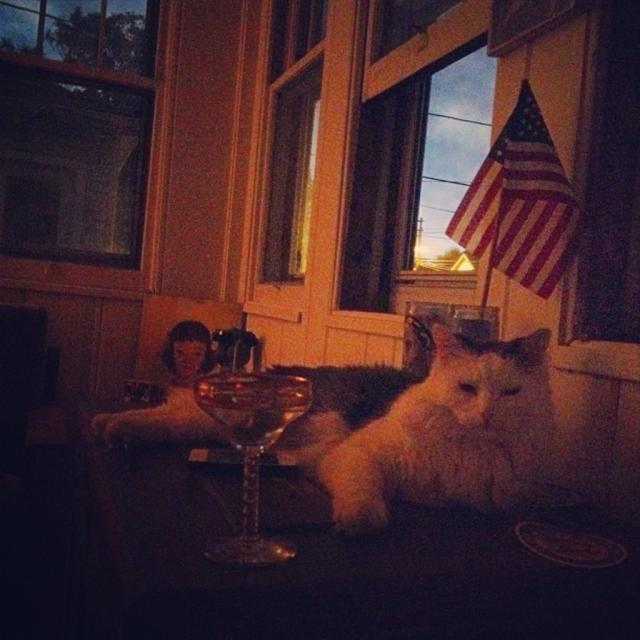Cat: (91, 324, 557, 537)
